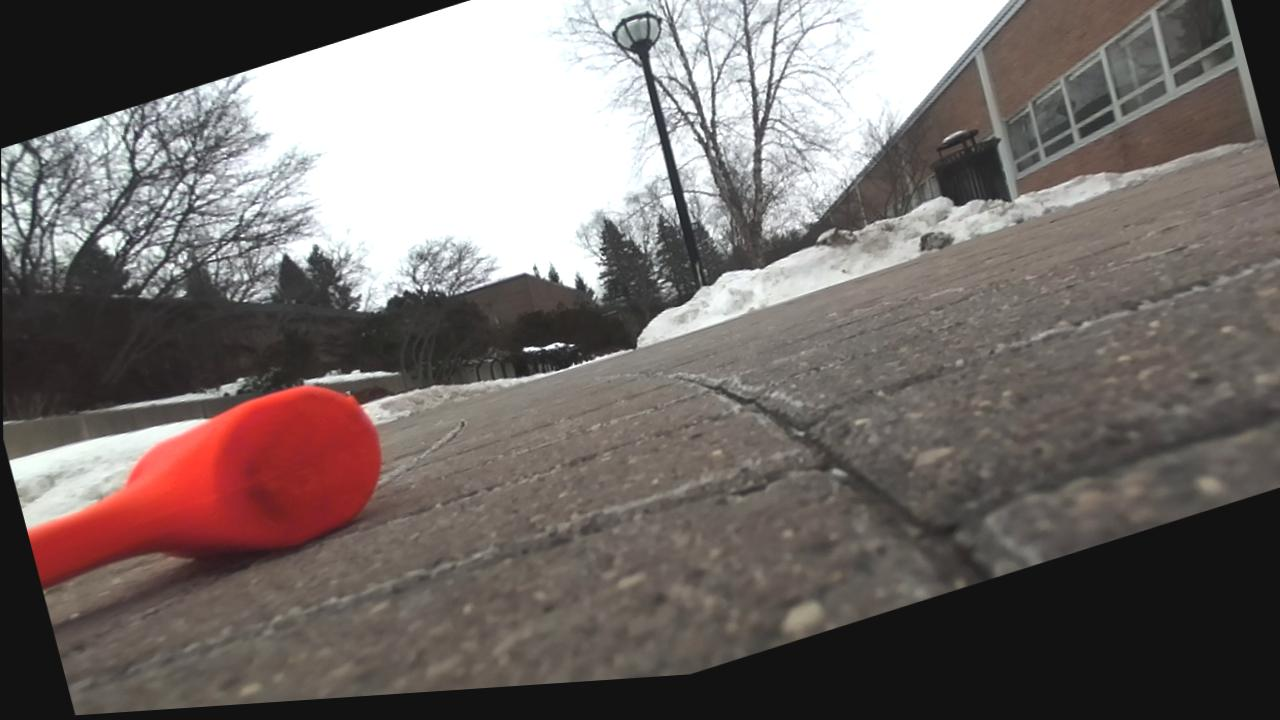mallet: (27, 386, 379, 588)
